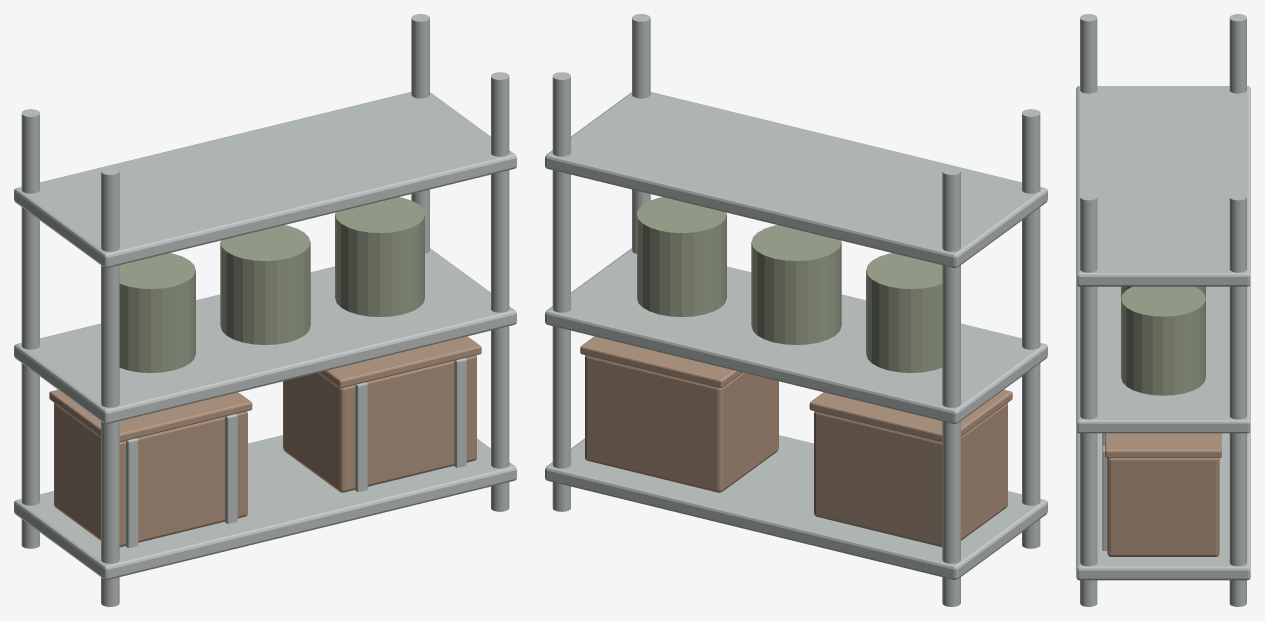
3 views of the same model, side by side, from view 1: azimuth 30°, elevation 25°; view 2: azimuth 150°, elevation 25°; view 3: azimuth 270°, elevation 25° (orthographic). The views are drawn at different scales.
Parts seen in each view (by area): view 1: rack shelf.002, rack shelf.001, rack shelf, crate body.001, crate body, supply can.001, supply can.002, supply can, support, support.002, support.001, lid (+6 smaller); view 2: rack shelf.002, rack shelf.001, crate body.001, rack shelf, crate body, supply can.001, supply can.002, supply can, support.001, support.003, support, lid (+2 smaller); view 3: rack shelf.002, rack shelf.001, crate body.001, supply can.002, rack shelf, support.002, support.003, lid.001, support, support.001, reinforcement strap.003.
Part boxes in pixels (x1,y1,x2,y2): rack shelf.002: [14, 92, 516, 267]; rack shelf.001: [14, 248, 516, 423]; rack shelf: [14, 435, 516, 579]; crate body.001: [283, 355, 476, 492]; crate body: [54, 403, 247, 547]; supply can.001: [220, 225, 310, 344]; supply can.002: [335, 197, 424, 316]; supply can: [119, 253, 195, 372]; support: [101, 167, 119, 606]; support.002: [491, 72, 509, 511]; support.001: [21, 109, 39, 548]; lid: [49, 390, 252, 441]; rack shelf.002: [545, 92, 1047, 267]; rack shelf.001: [545, 248, 1047, 423]; crate body.001: [585, 355, 778, 492]; rack shelf: [545, 435, 1047, 579]; crate body: [814, 403, 1007, 547]; supply can.001: [751, 225, 841, 344]; supply can.002: [637, 197, 726, 316]; supply can: [866, 253, 942, 372]; support.001: [942, 167, 960, 606]; support.003: [552, 72, 570, 511]; support: [1022, 109, 1040, 548]; lid: [809, 390, 1012, 441]; rack shelf.002: [1076, 86, 1250, 286]; rack shelf.001: [1076, 284, 1250, 433]; crate body.001: [1107, 457, 1219, 556]; supply can.002: [1121, 286, 1205, 395]; rack shelf: [1076, 431, 1250, 580]; support.002: [1080, 193, 1097, 606]; support.003: [1229, 193, 1246, 606]; lid.001: [1105, 433, 1221, 457]; support: [1080, 14, 1097, 93]; support.001: [1229, 14, 1246, 93]; reinforcement strap.003: [1102, 446, 1107, 550].
Bounding box in the file's own units: 1.8 × 1.8 × 0.7.
